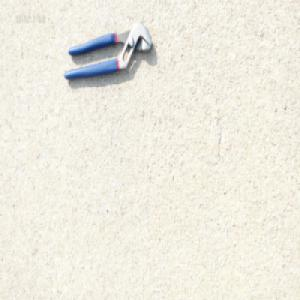Pliers: (63, 21, 152, 82)
